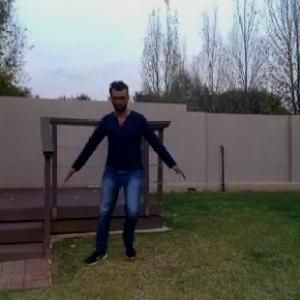land: (71, 82, 180, 269)
